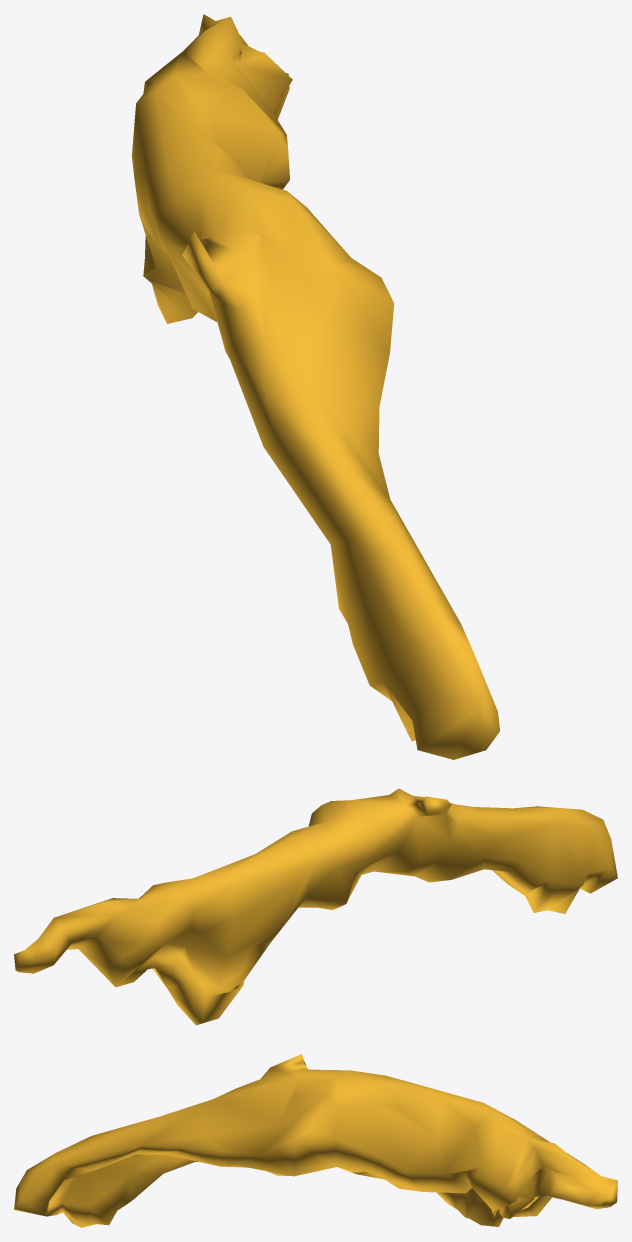
The model's file is nervoso-collateral-sulcus-r.glb.
3 views of the same model, one above another, from view 1: azimuth 30°, elevation 25°; view 2: azimuth 150°, elevation 25°; view 3: azimuth 270°, elevation 25° (orthographic). The views are drawn at different scales.
Visible parts, largest first — view 1: Collateral sulcus.r; view 2: Collateral sulcus.r; view 3: Collateral sulcus.r.
Part boxes in pixels (left/top/right/bottom): Collateral sulcus.r: left=132, top=14, right=499, bottom=759; Collateral sulcus.r: left=14, top=788, right=617, bottom=1025; Collateral sulcus.r: left=14, top=1054, right=617, bottom=1227.
Bounding box in the file's own units: 0.0318 × 0.0264 × 0.0829.
